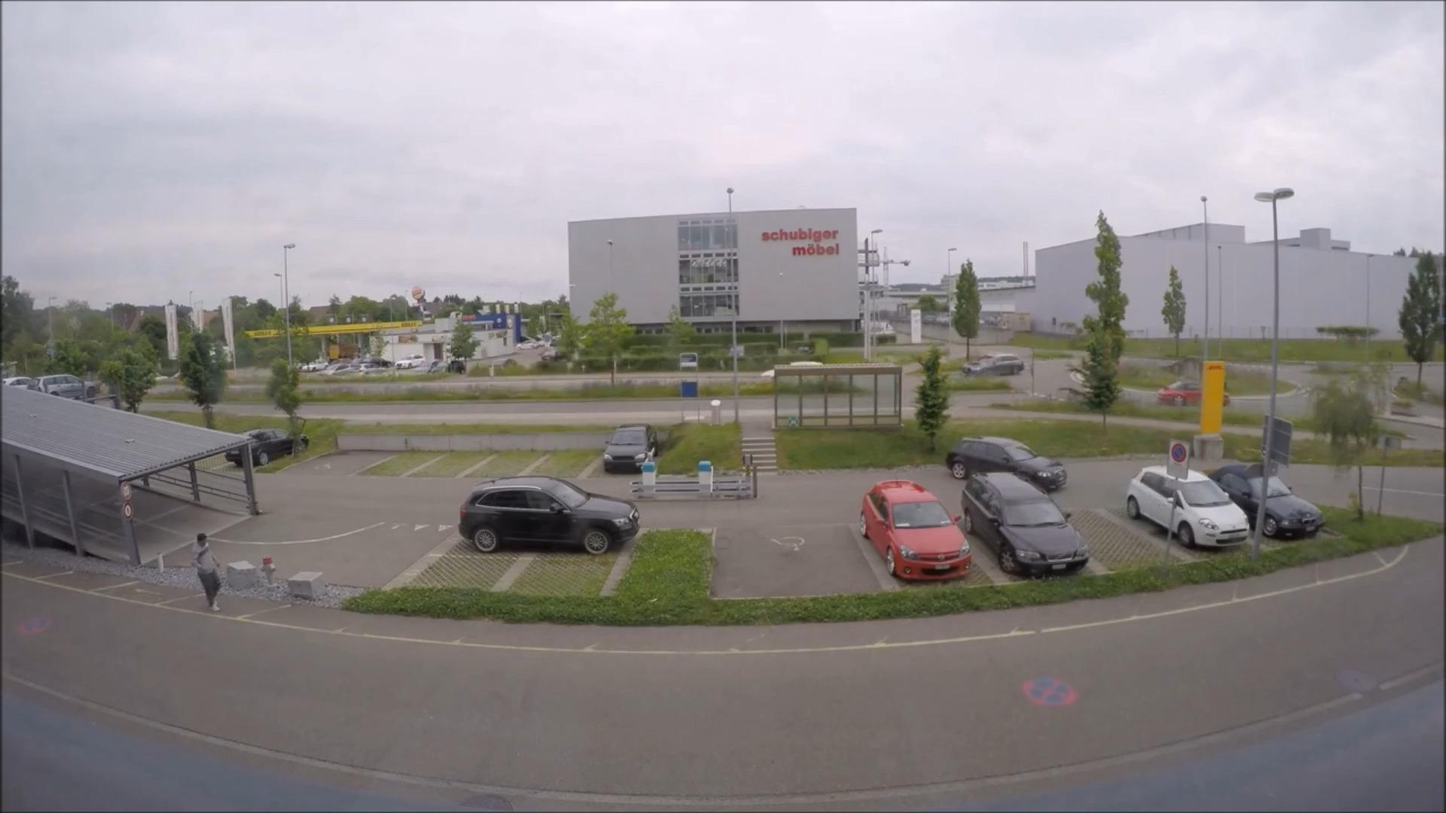occupied: (456, 475, 643, 556), (964, 469, 1092, 576), (861, 481, 968, 582), (1200, 463, 1319, 539), (223, 428, 306, 467), (601, 424, 658, 473), (1157, 379, 1228, 406), (32, 373, 92, 400), (962, 353, 1024, 378), (358, 359, 394, 372), (3, 376, 35, 388), (298, 360, 328, 372)
